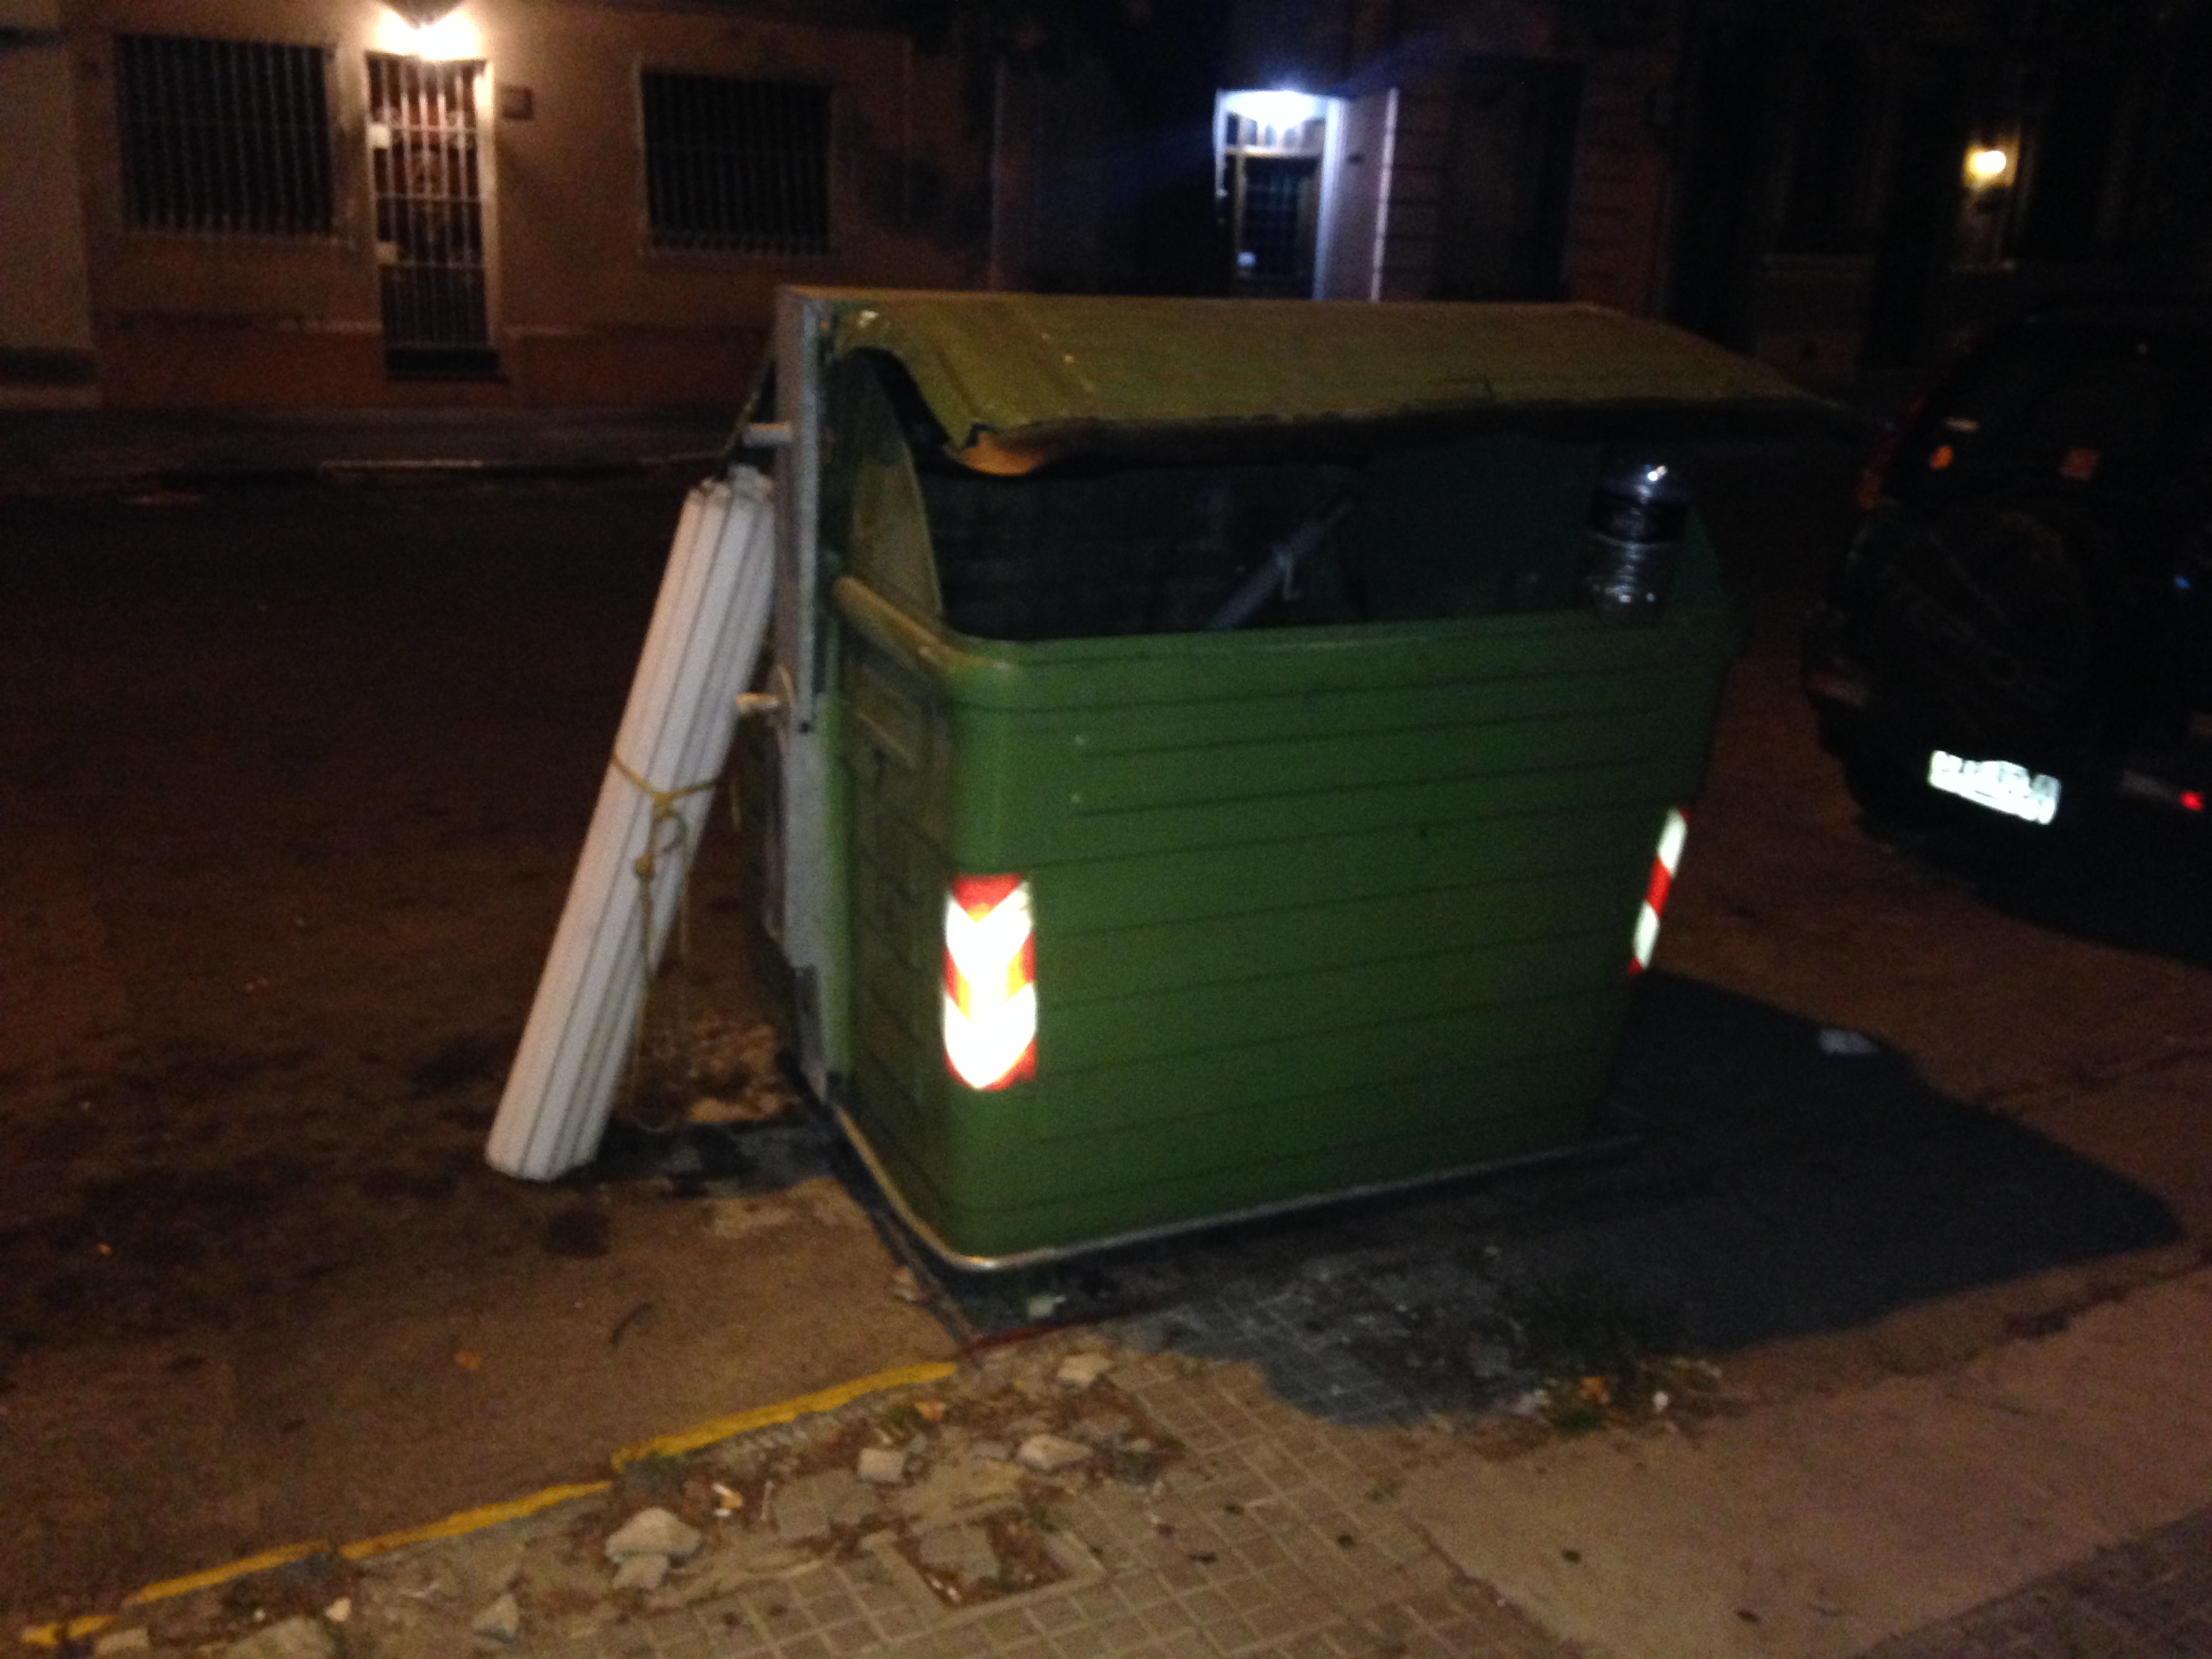container: (691, 277, 1897, 1281)
